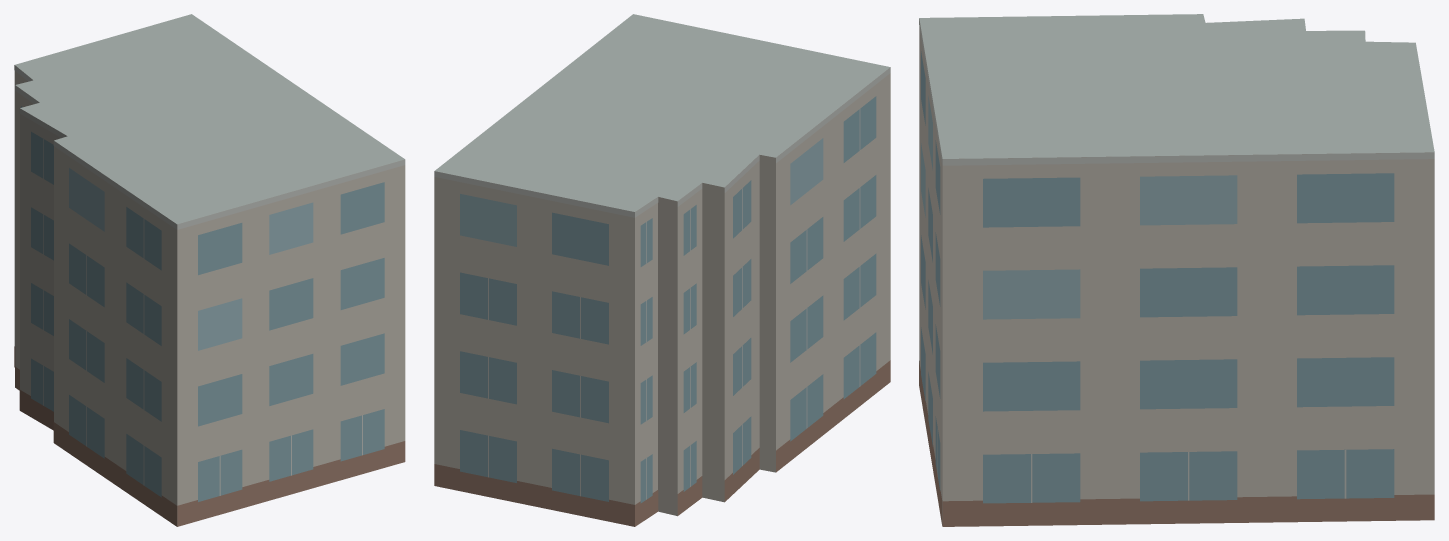
The model's file is survey-upis-32755473.glb.
The picture shows the model from 3 angles, left to right: view 1: azimuth 30°, elevation 25°; view 2: azimuth 150°, elevation 25°; view 3: azimuth 270°, elevation 25°; orthographic projection. The views are drawn at different scales.
Parts seen in each view (by area): view 1: survey-upis-32755473.tmp; view 2: survey-upis-32755473.tmp; view 3: survey-upis-32755473.tmp.
Boxes of the visible parts, x1=… form: survey-upis-32755473.tmp: x1=14, y1=14, x2=405, y2=526; survey-upis-32755473.tmp: x1=434, y1=14, x2=890, y2=526; survey-upis-32755473.tmp: x1=919, y1=14, x2=1434, y2=526.
Size of the model in its own units: 11.25 by 13.3 by 16.9.
